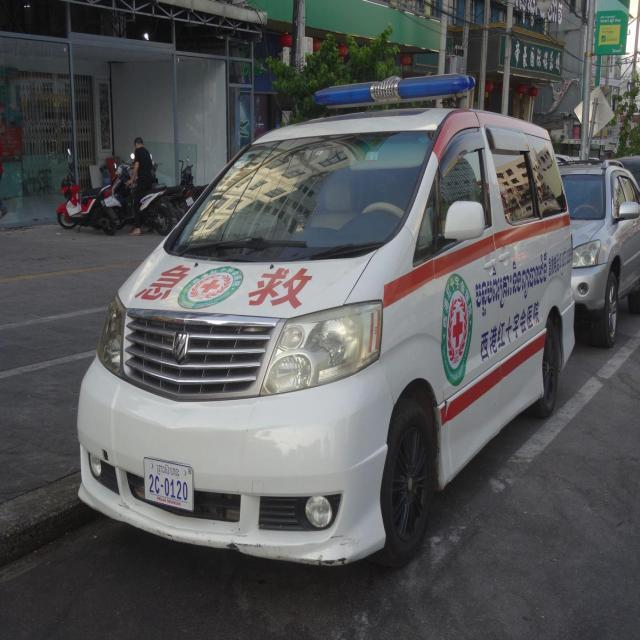Preah_Sihanouk: (156, 462, 182, 479)
